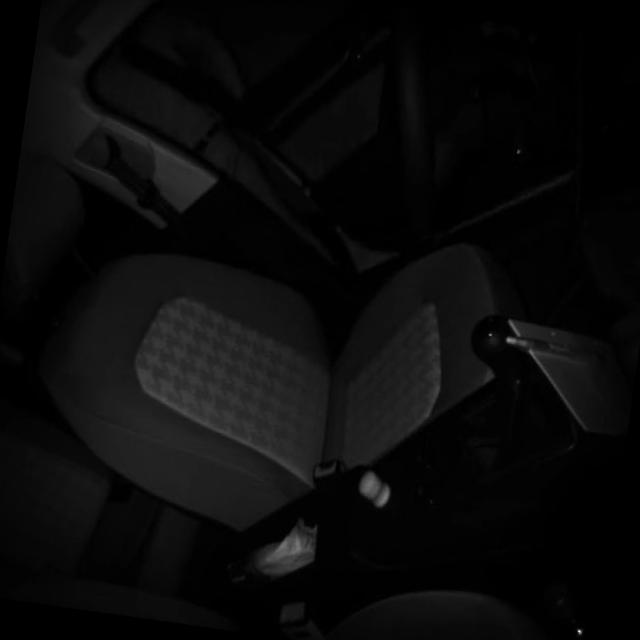pen: (504, 333, 610, 364)
